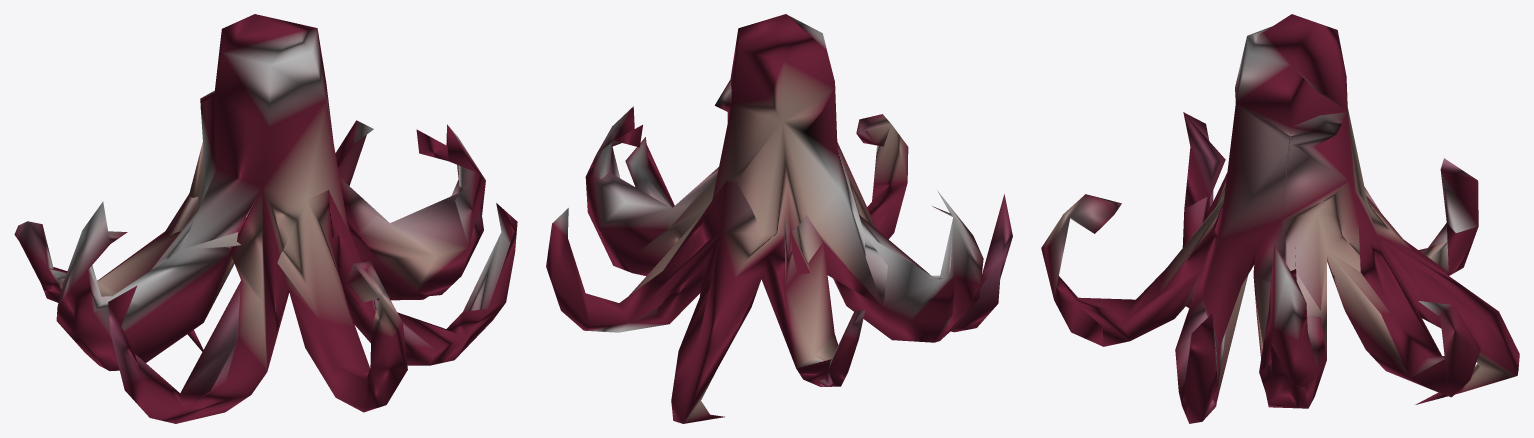
Rendered from gen3d-giant-squid-lod1.glb.
The picture shows the model from 3 angles, left to right: view 1: azimuth 30°, elevation 25°; view 2: azimuth 150°, elevation 25°; view 3: azimuth 270°, elevation 25°; orthographic projection. The views are drawn at different scales.
Parts seen in each view (by area): view 1: part_0; view 2: part_0; view 3: part_0.
Boxes of the visible parts, bbox=[...] form: part_0: bbox=[14, 14, 517, 423]; part_0: bbox=[546, 14, 1012, 423]; part_0: bbox=[1041, 14, 1519, 423].
Bounding box in the file's own units: 1.16 × 0.9947 × 1.13.
